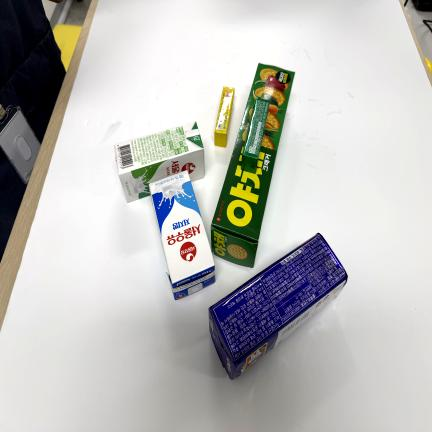cracker_ace: (209, 233, 347, 380)
cracker_vege: (211, 64, 295, 267)
gum_green: (241, 96, 270, 174)
gum_yellow: (215, 87, 235, 147)
milk_blue: (150, 171, 215, 299)
milk_green: (114, 122, 205, 202)
